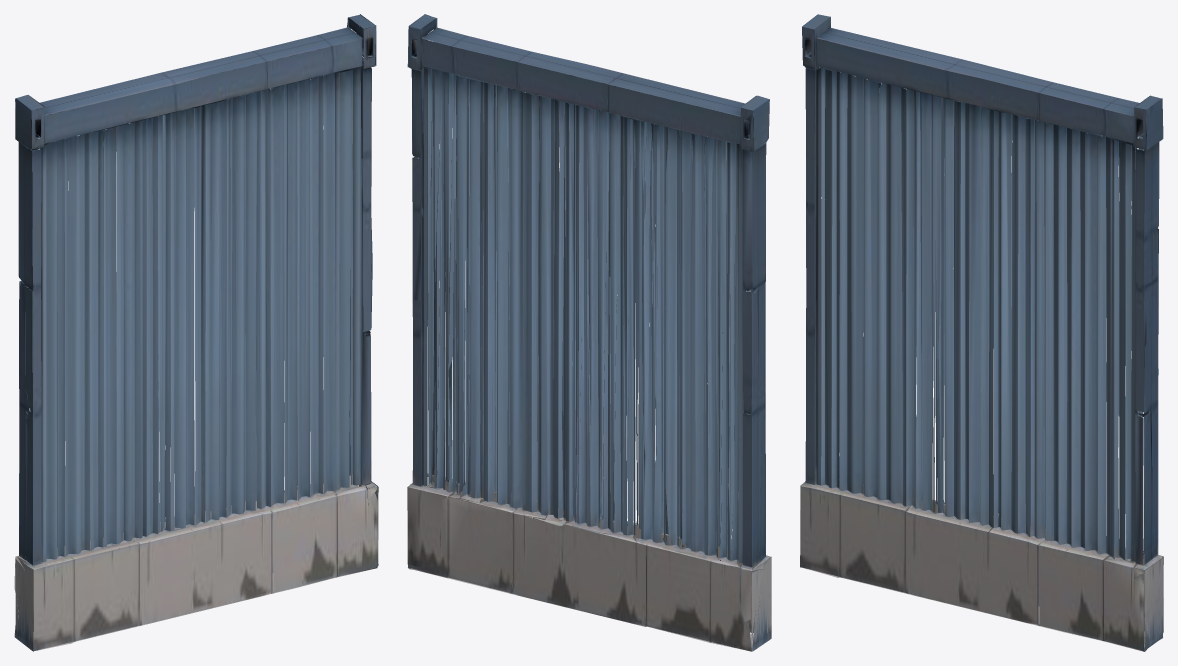
File: infill_2m.glb
The picture shows the model from 3 angles, left to right: view 1: azimuth 30°, elevation 25°; view 2: azimuth 150°, elevation 25°; view 3: azimuth 330°, elevation 25°; orthographic projection.
Parts seen in each view (by area): view 1: Industrial_infill_2m; view 2: Industrial_infill_2m; view 3: Industrial_infill_2m.
Boxes of the visible parts, x1,y1,x2,y2 form: Industrial_infill_2m: (14,14,378,651); Industrial_infill_2m: (407,14,771,651); Industrial_infill_2m: (800,14,1163,651).
Size of the model in its own units: 2 by 3 by 0.2066.
Materials: 1 (1 with a texture image).
